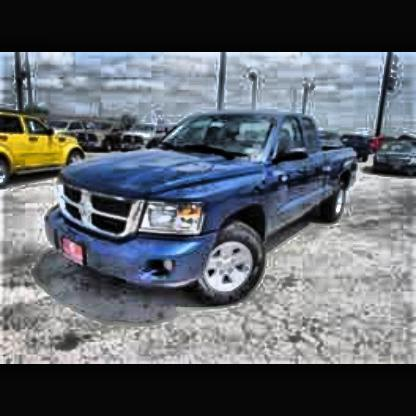Dodge Dakota Crew Cab 2010: (45, 108, 363, 314)
